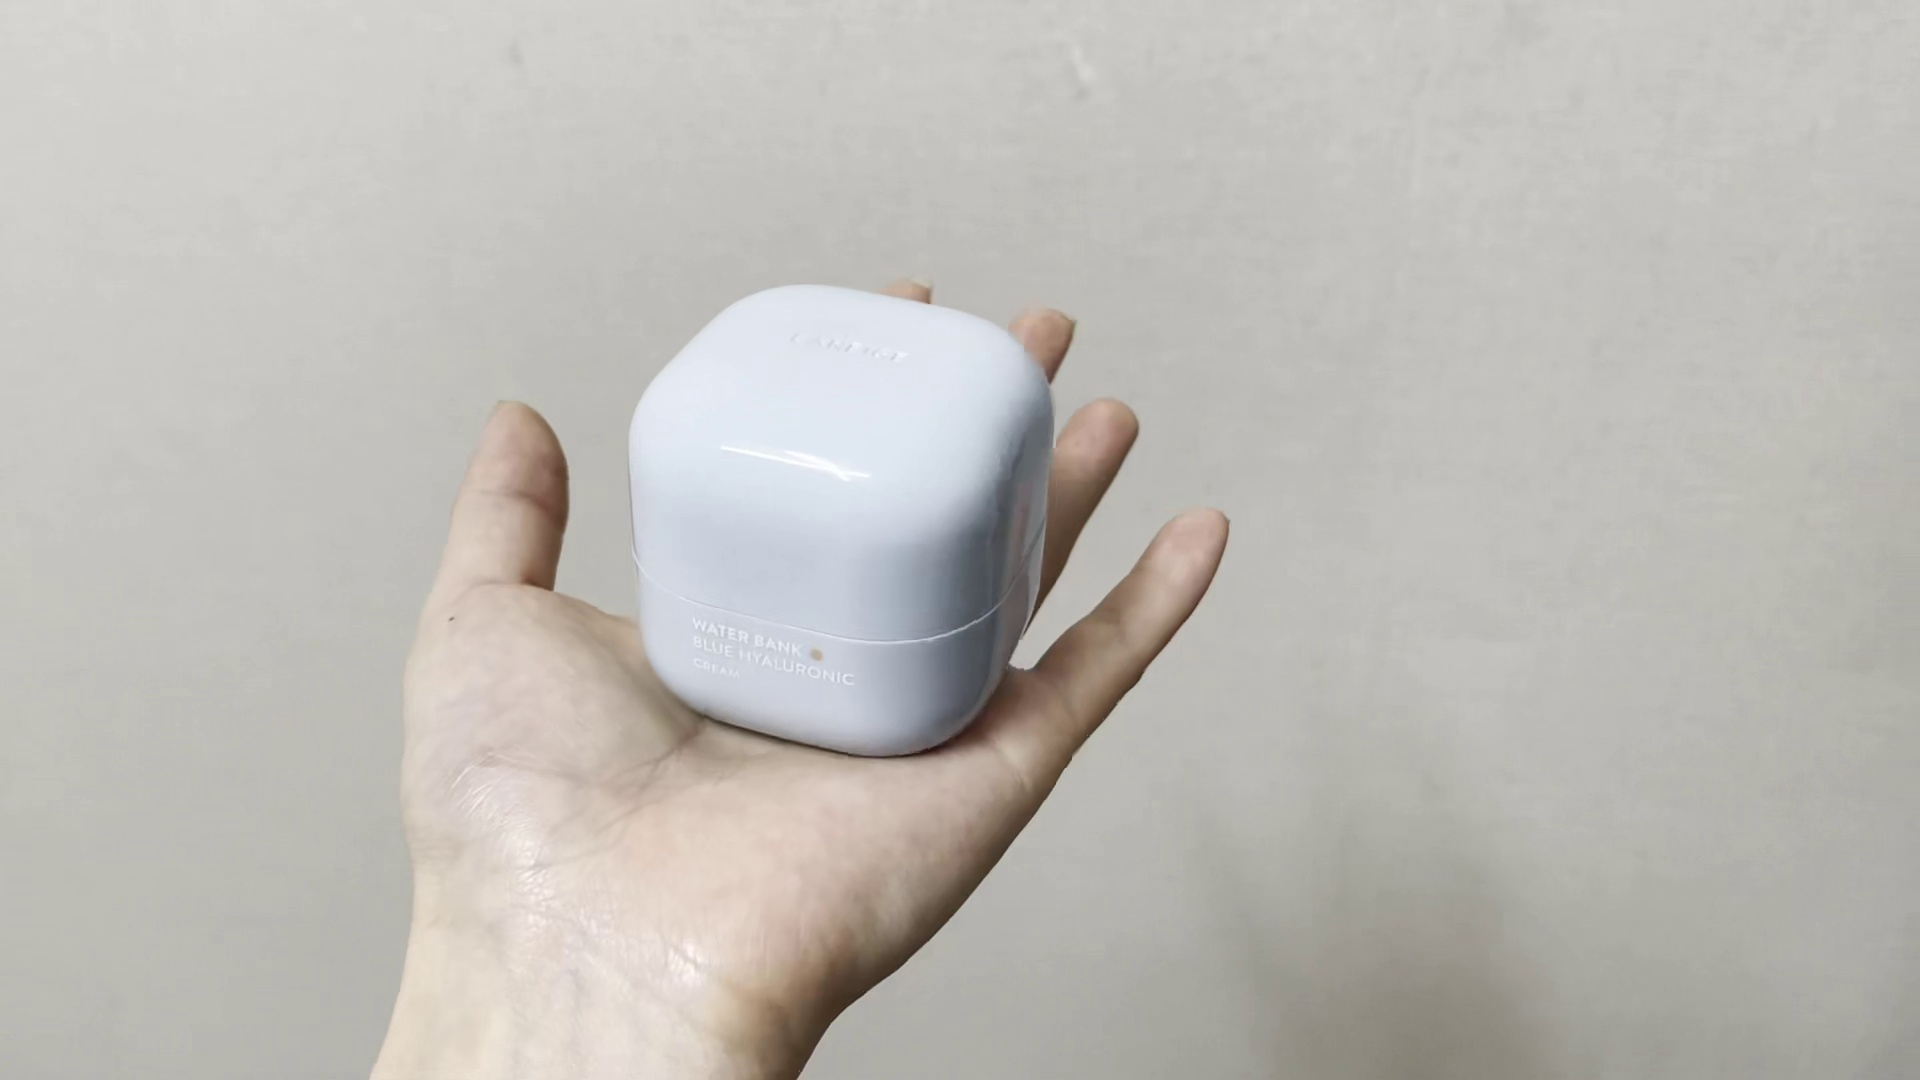cream: (630, 286, 1054, 754)
